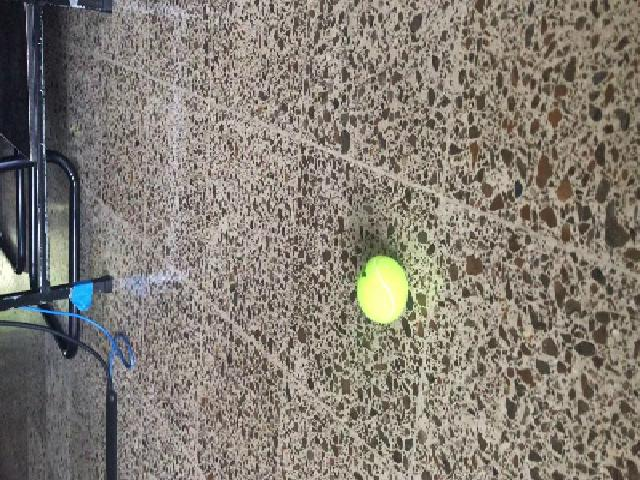Ball: (354, 256, 413, 325)
